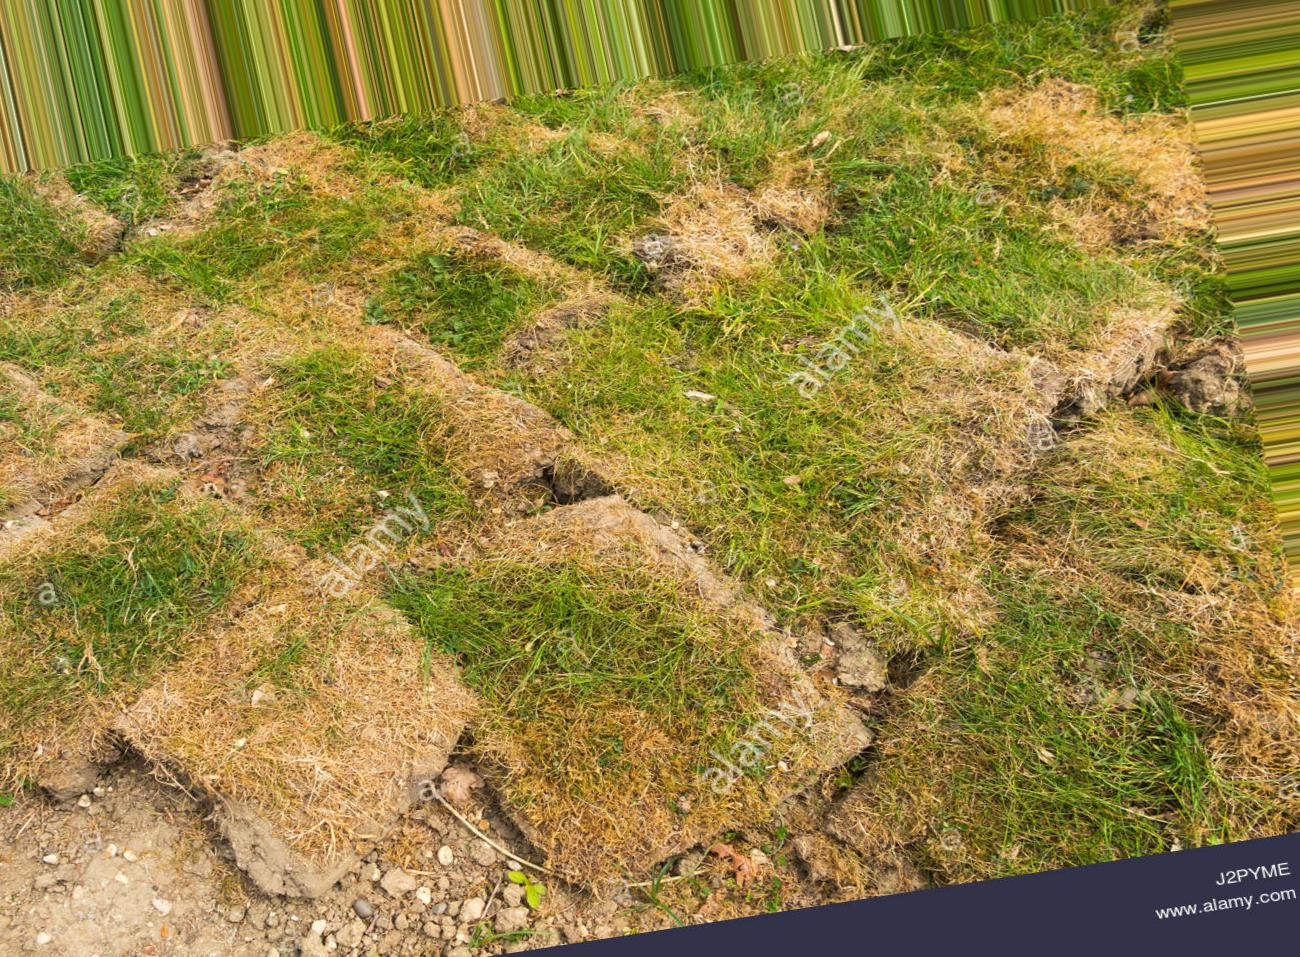patch: (156, 627, 430, 781), (1046, 93, 1213, 243), (394, 332, 562, 473), (951, 326, 1132, 444), (534, 715, 691, 839), (649, 182, 810, 298), (38, 381, 197, 490)
